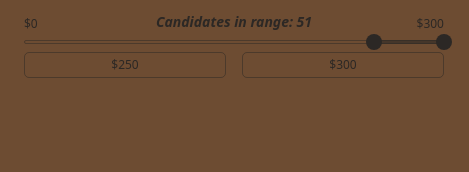
Test case: CandidateRangeSlider › dragging min past the 200-candidate cap pulls max down with it, live
The image size is (469, 172).
Press the mouse on the slider named "Minimum total spending" at [374, 42], box [366,34,382,50]
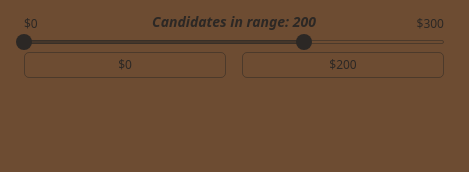
expect the text "Candidates in range: 200" is shown: met, box [152,12,316,32]
expect the field named "Minimum total spending amount" holds "$0": met, box [24,52,226,78]
expect the field named "Maximum total spending amount" holds "$200": met, box [242,52,444,78]
